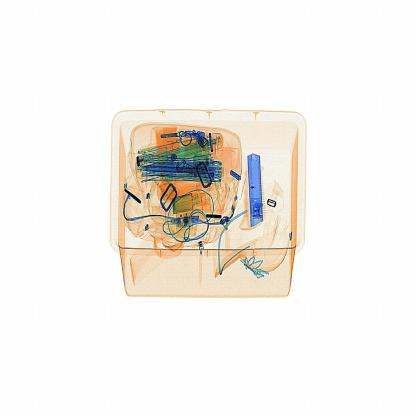pliers: (236, 145, 269, 235)
